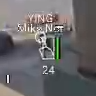hacks_1: (18, 13, 65, 75)
